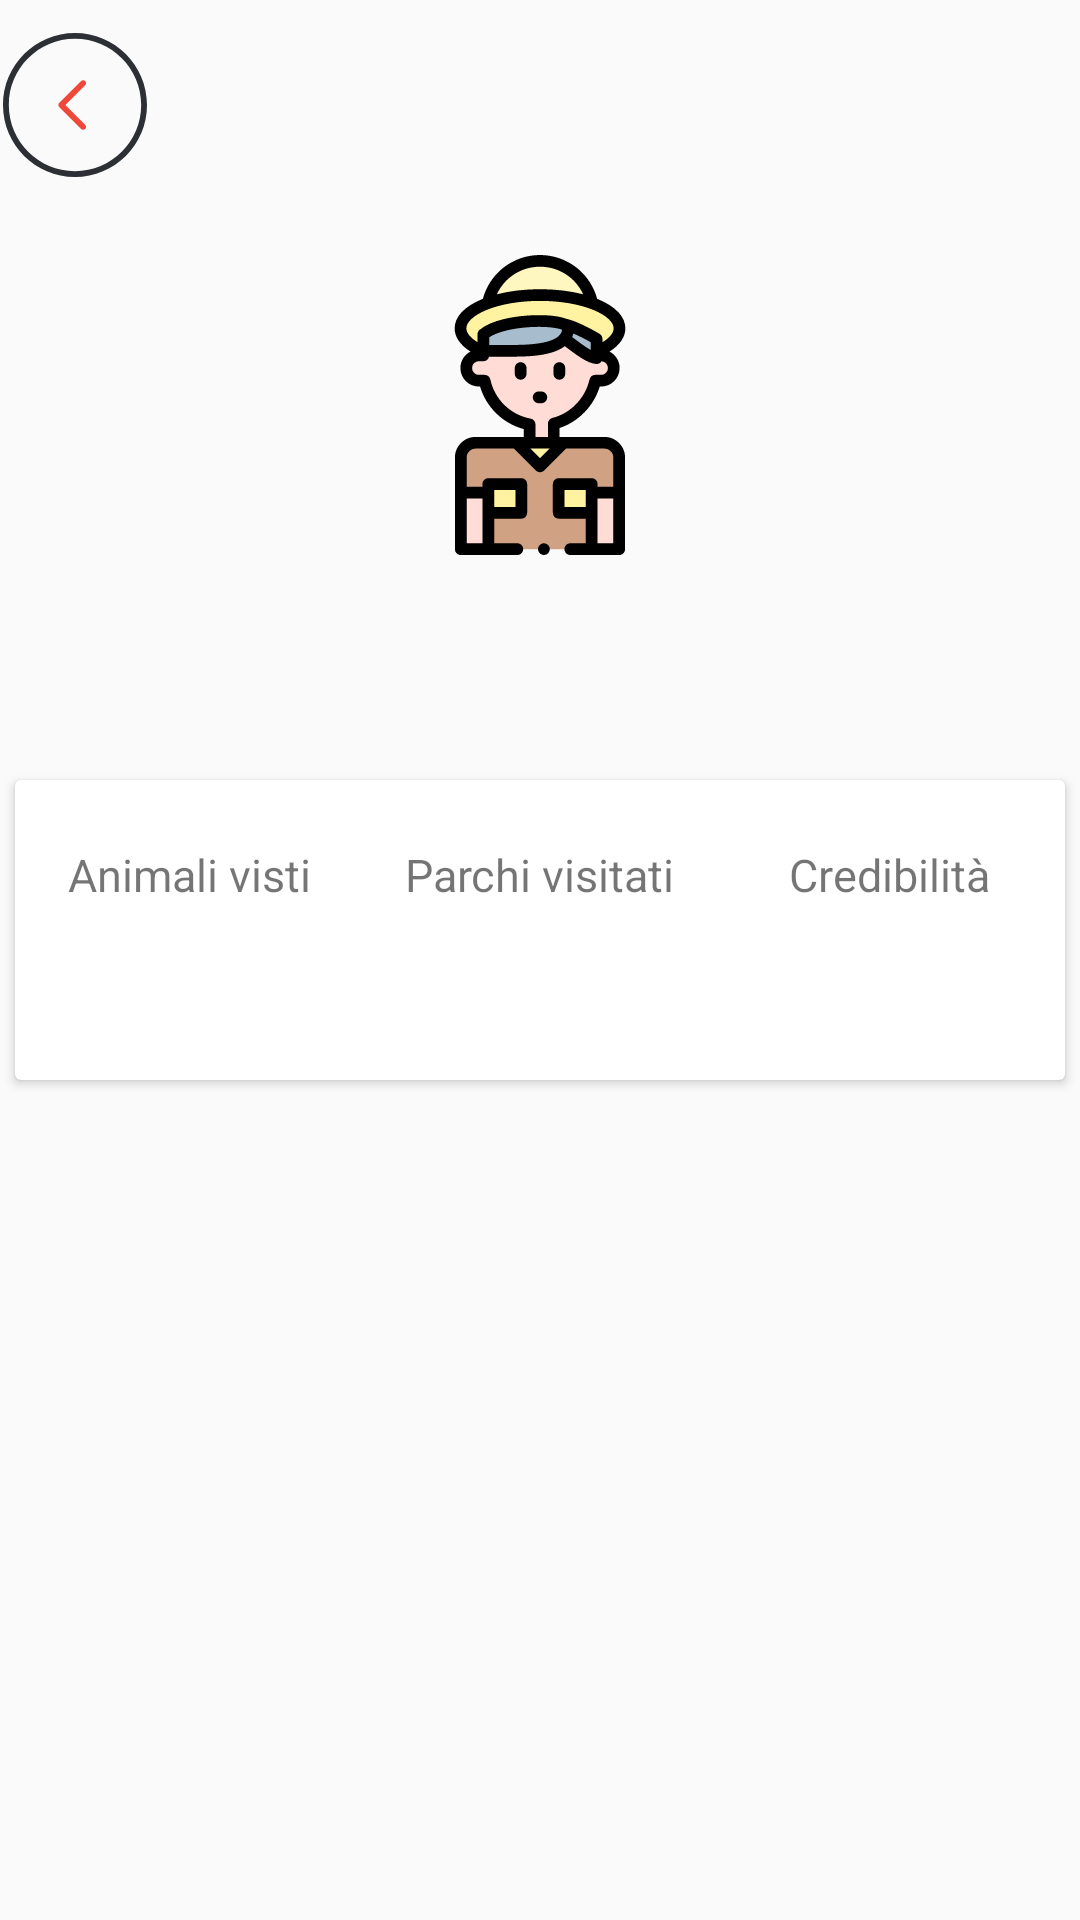

Icons on this 1080 x 1920 Android screen, each with its box as (x1, y1, x2, y2):
back: (3, 33, 147, 177)
profile: (454, 255, 626, 555)
